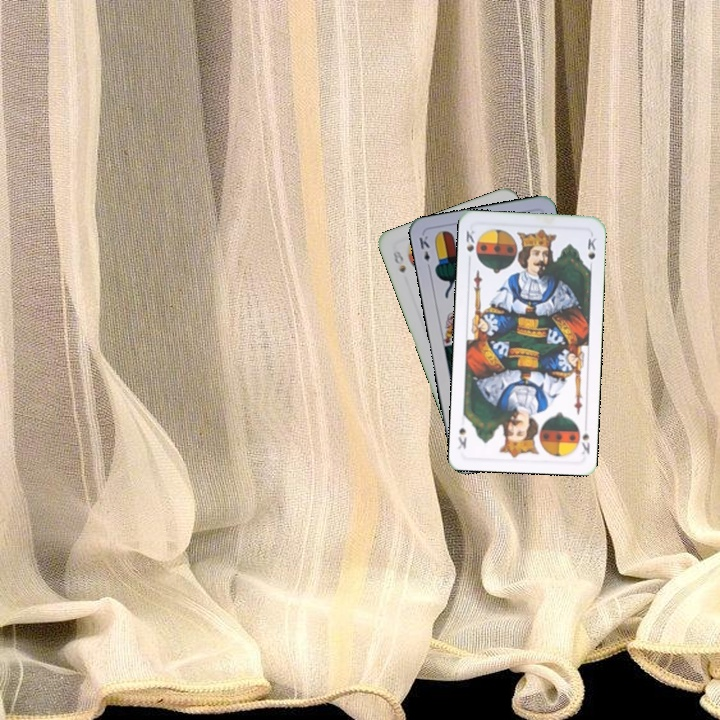EK: (415, 231, 433, 272)
S8: (389, 247, 408, 276)
SK: (573, 421, 592, 457), (462, 225, 477, 265)
